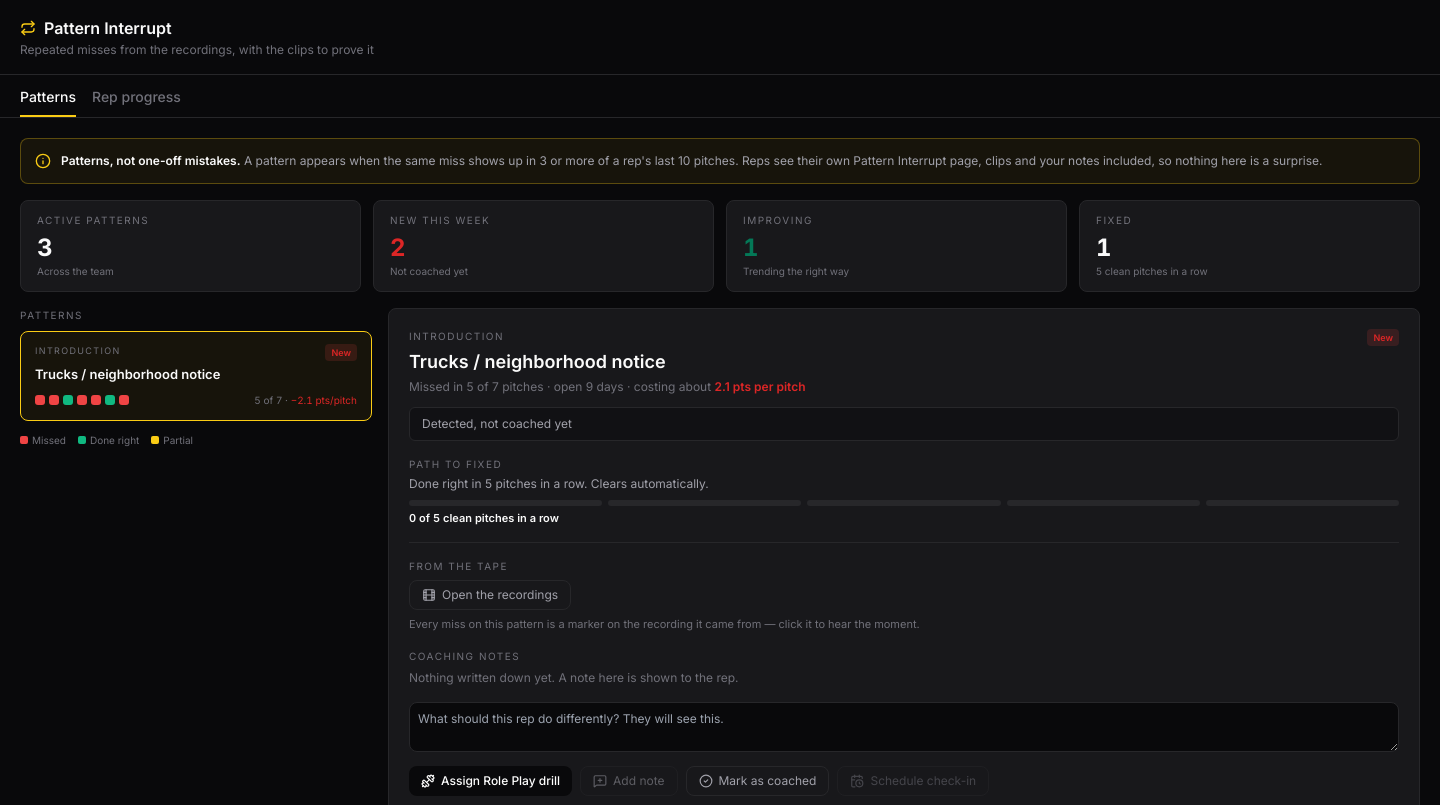
Test case: the role split › does not hand a REP a one-person team board
Check: the text "Path to fixed" is shown, box [409,458,502,470]
Click the button "Rep progress" at (136, 102), box [92,87,181,117]
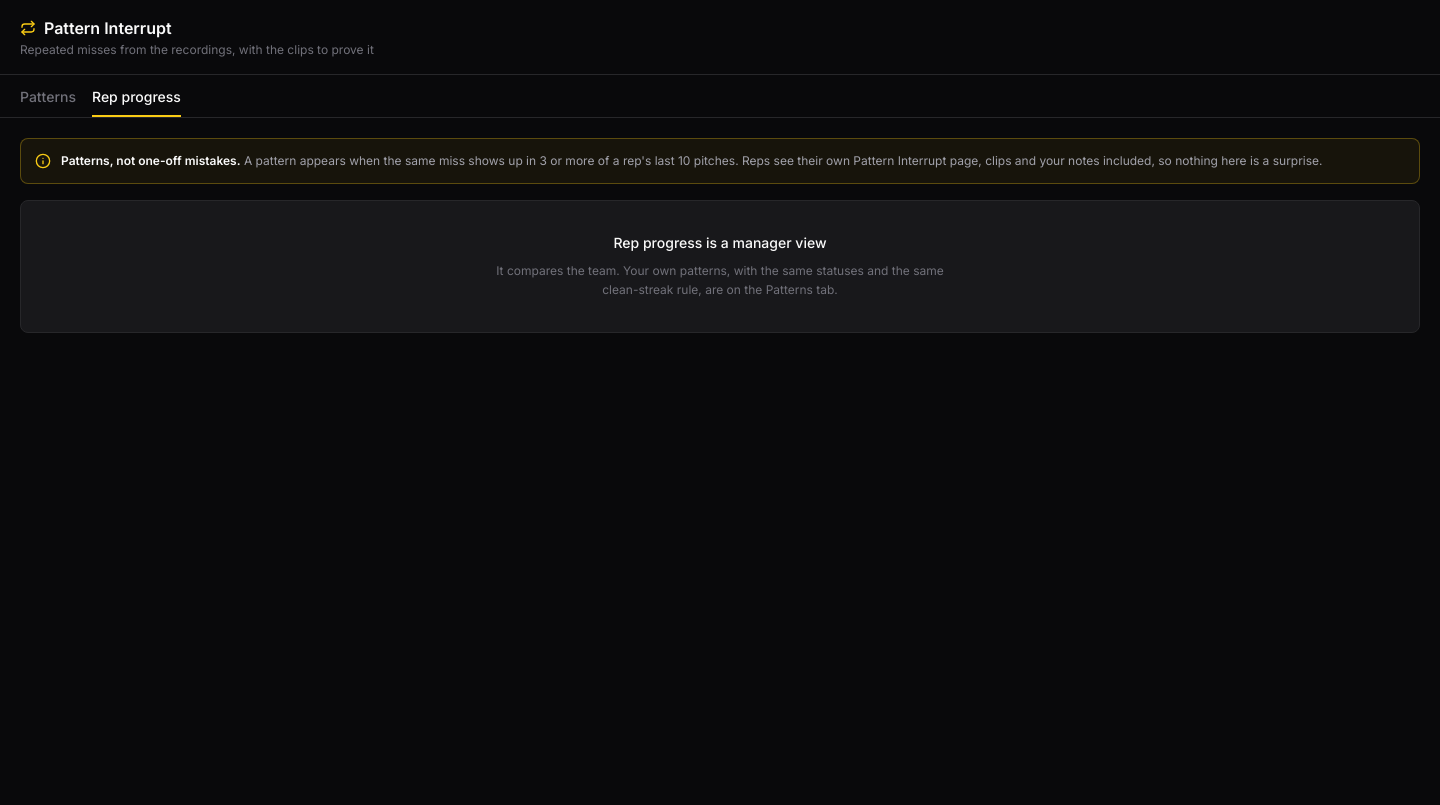
Check: the text "Rep progress is a manager view" is shown, box [614,234,827,250]
